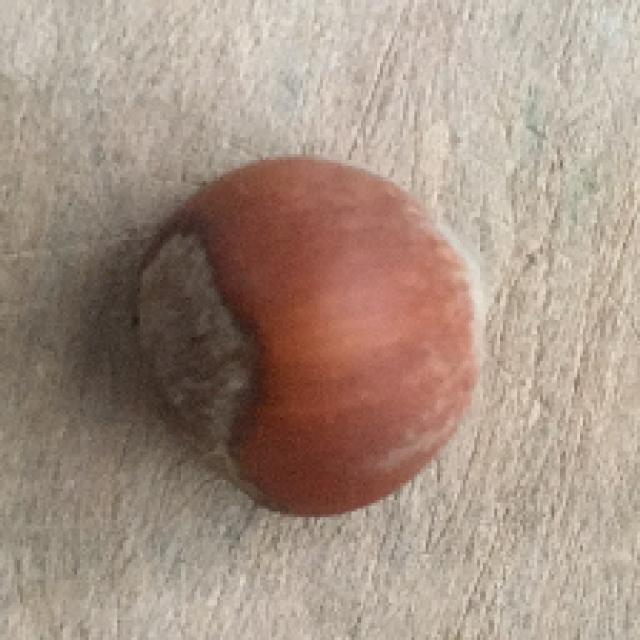qualityHazelnut: (119, 150, 498, 522)
